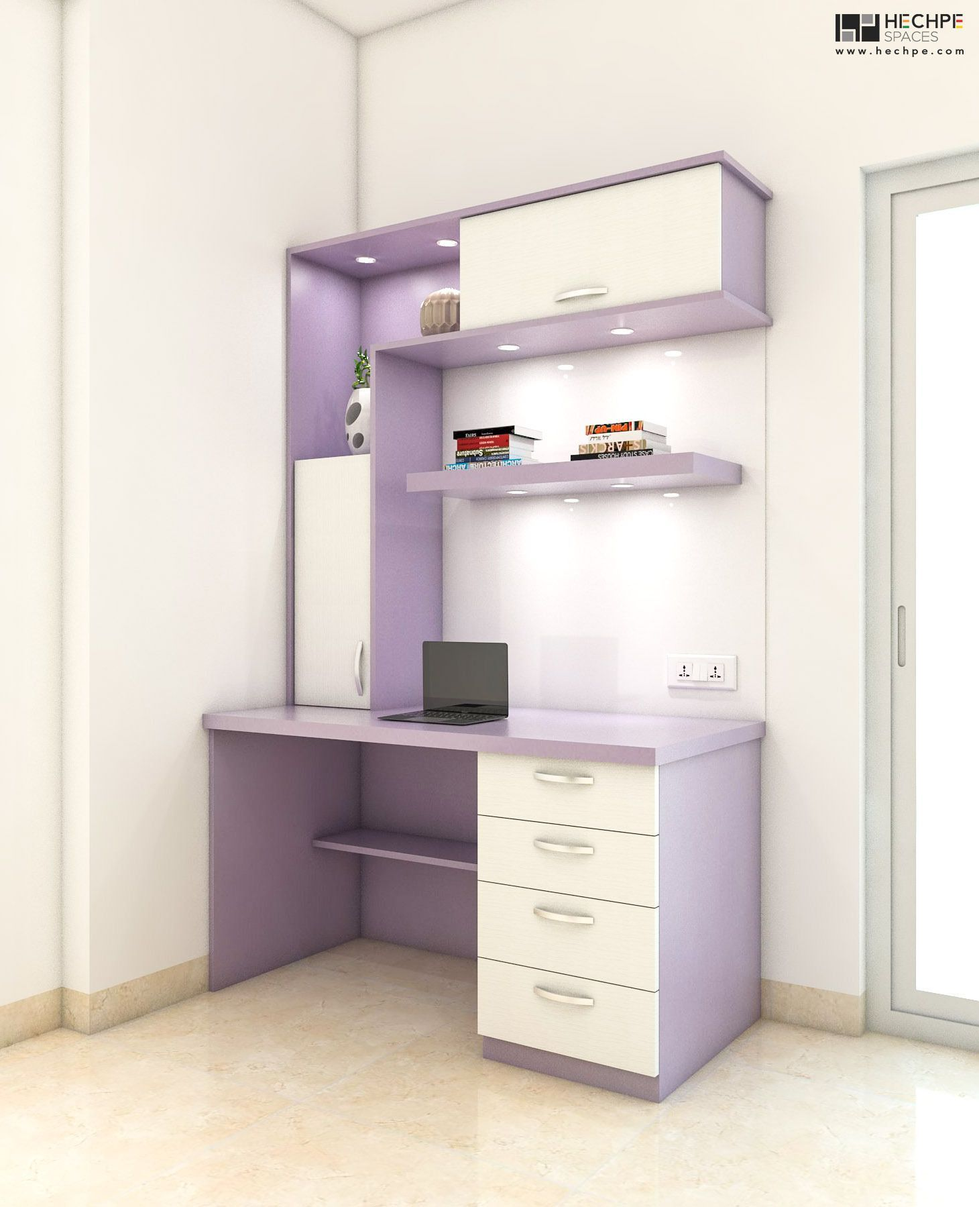not a gesture sign: (114, 68, 894, 1177)
